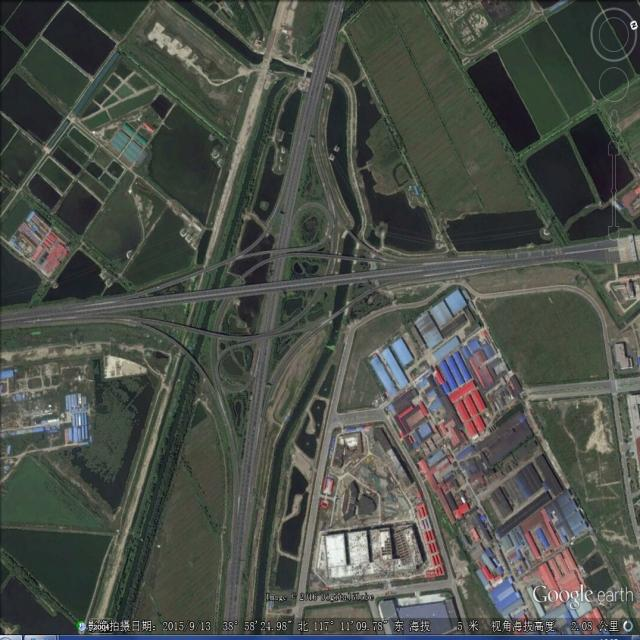overpass: (97, 135, 424, 487)
